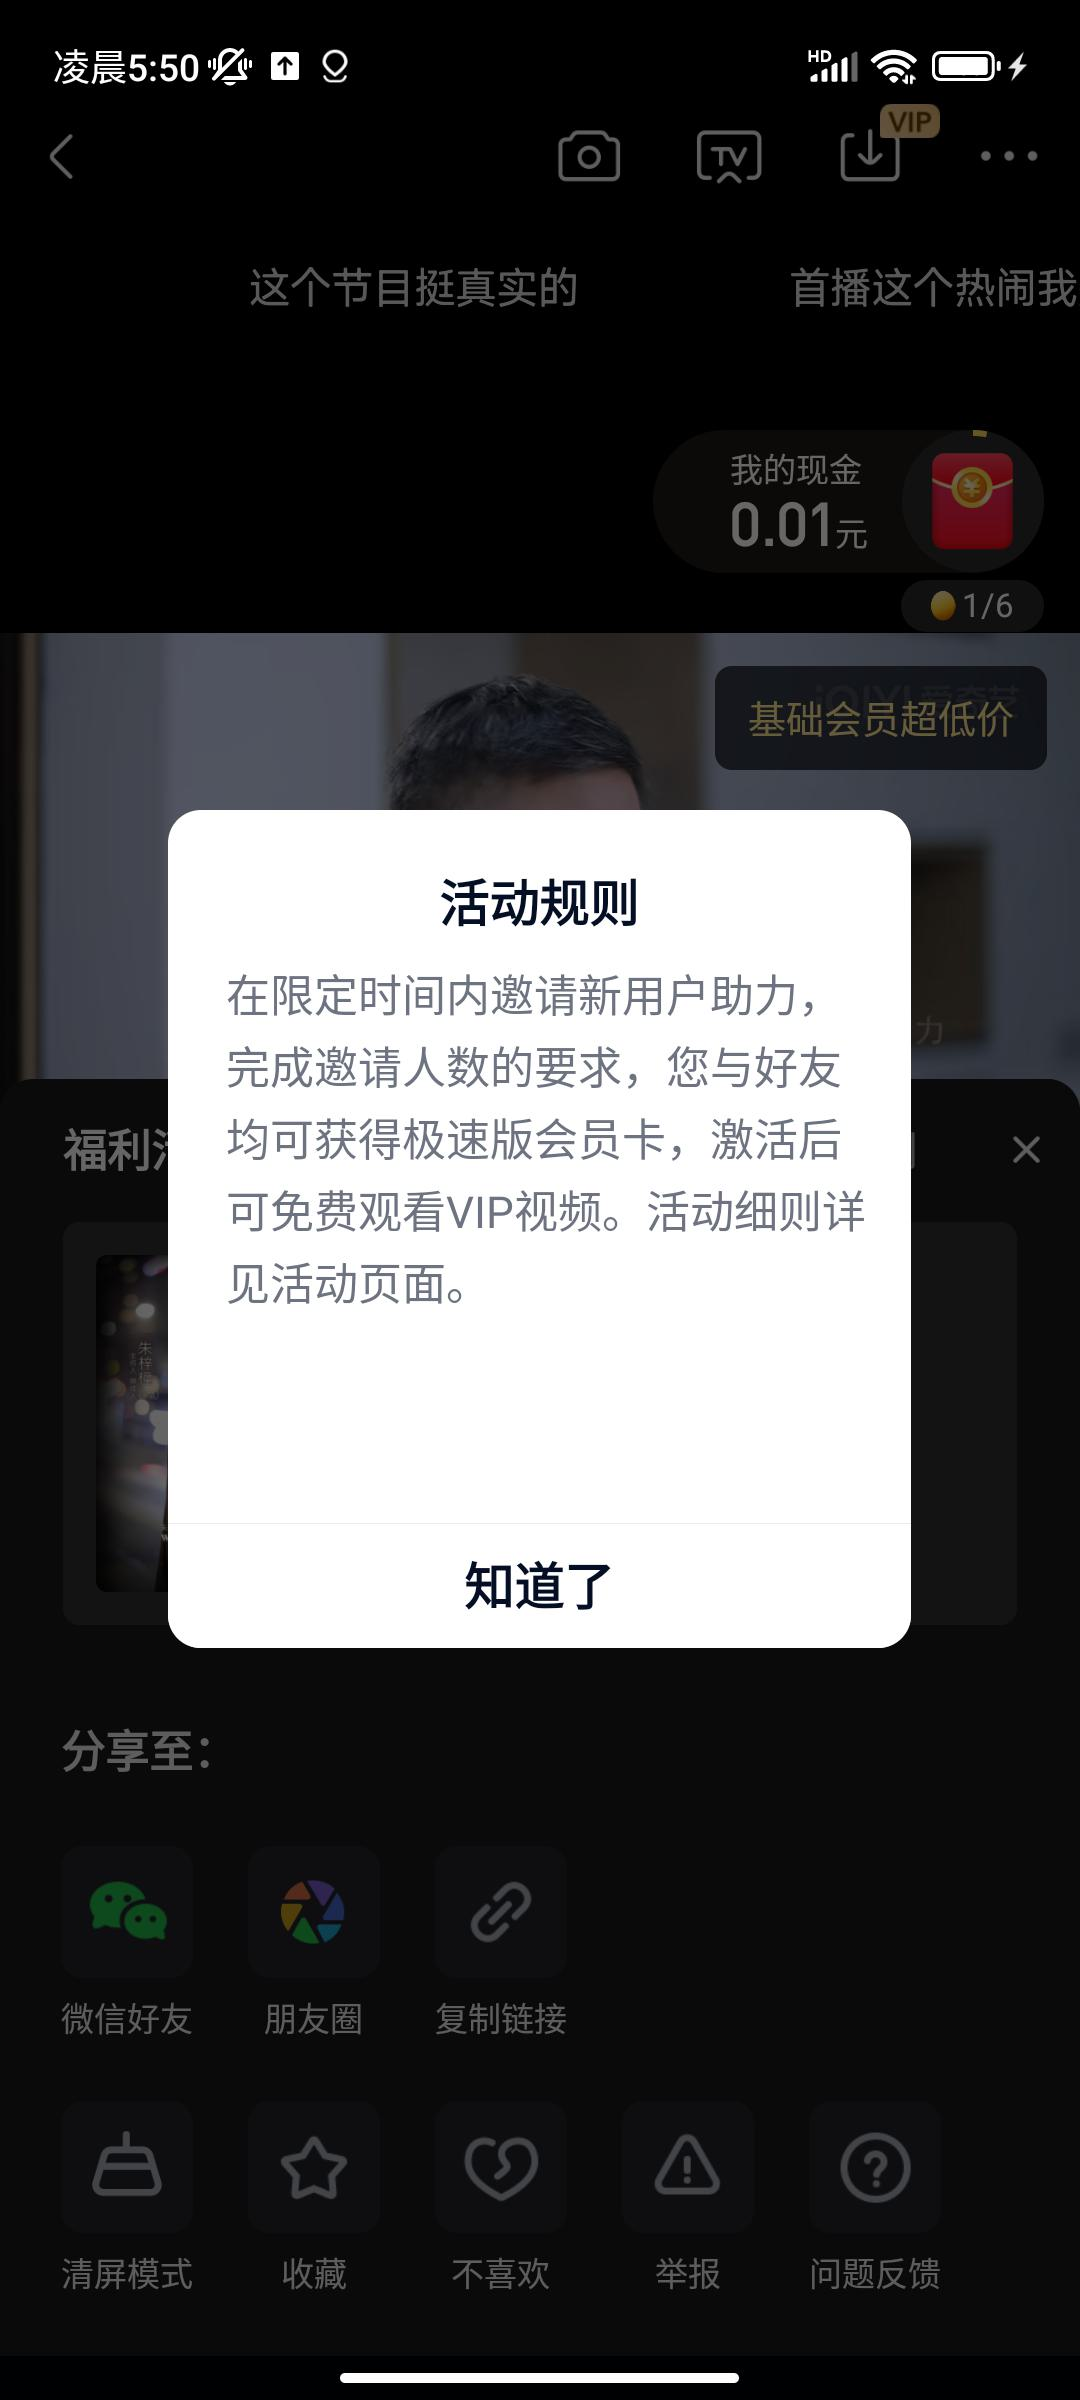ui_group: (171, 823, 912, 1650)
